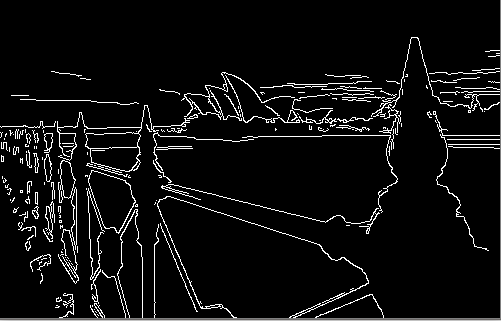opera house: (163, 59, 349, 142)
